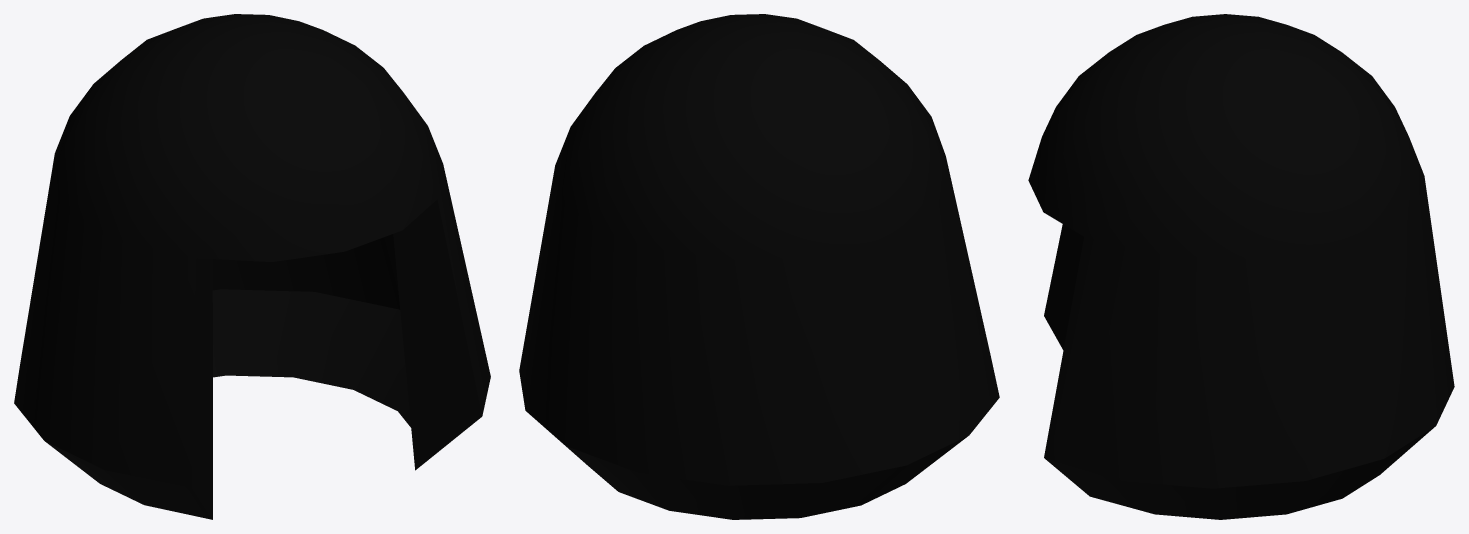
Rendered from Hair_04.fbx.
3 renders of one model, left to right at view 1: azimuth 30°, elevation 25°; view 2: azimuth 150°, elevation 25°; view 3: azimuth 270°, elevation 25°, orthographic.
Parts seen in each view (by area): view 1: Hair_04; view 2: Hair_04; view 3: Hair_04.
Boxes of the visible parts, <box> form: Hair_04: <box>14,14,490,519</box>; Hair_04: <box>519,14,999,519</box>; Hair_04: <box>1028,14,1454,519</box>.
Bounding box in the file's own units: 137 × 130 × 121.
